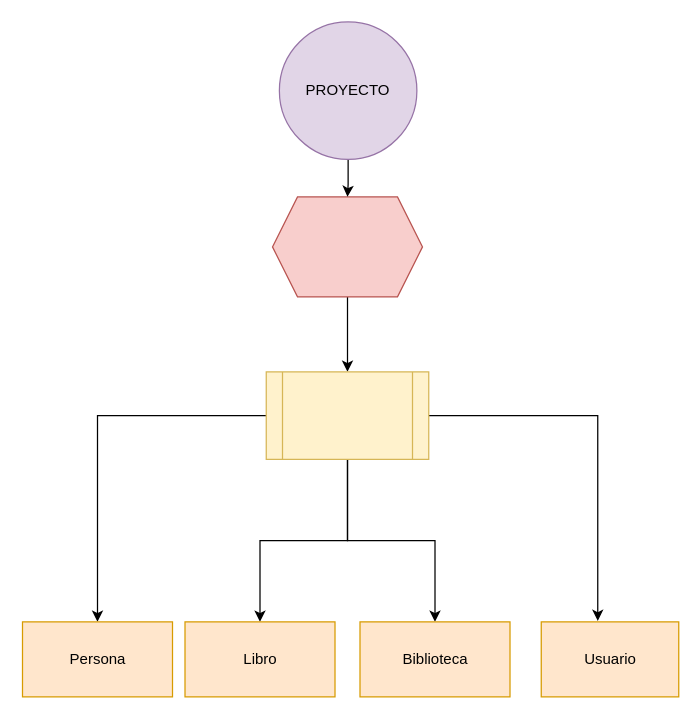
Image size: 700x719. Some labels were removed from this diagram. The centre of each missing label's shape, as x and y in pixels:
APARTADO-A: point (346, 246)
MenuBiblioteca: point (347, 415)
